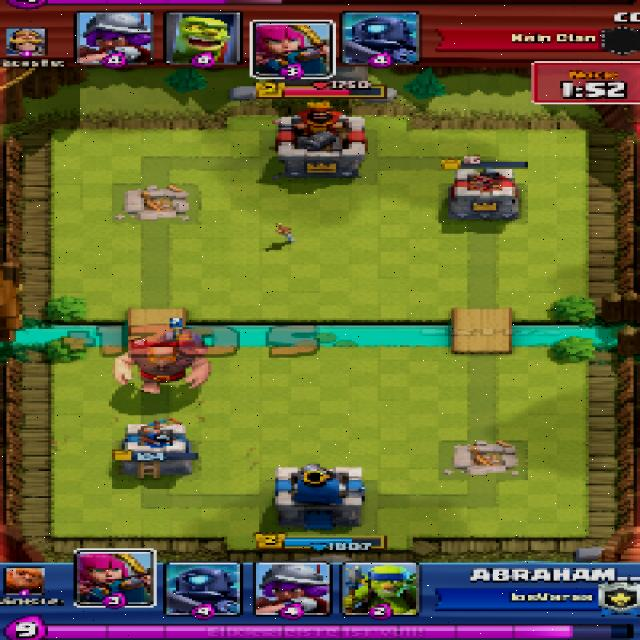Enemy-Giant: (114, 347, 212, 394)
Player-Knight: (156, 329, 205, 346)
